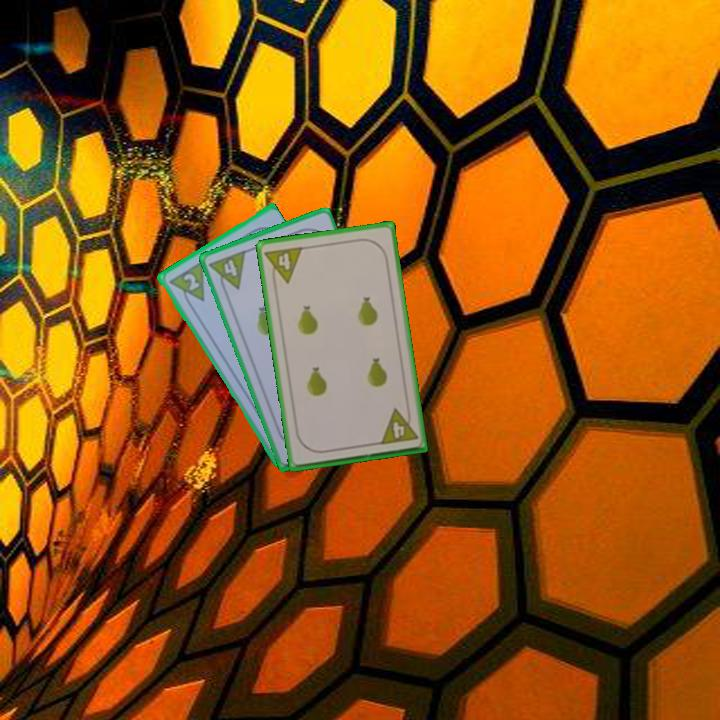2p: (164, 258, 207, 311)
4p: (205, 247, 248, 297), (261, 243, 306, 288), (376, 404, 420, 447)
